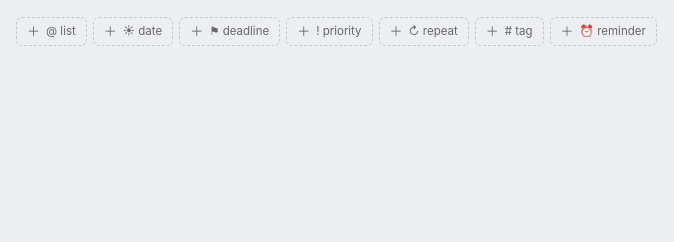
the field sheets in the detail › closes on Escape
This screenshot has width=674, height=242.
Click the button "＋ ! priority".
click(329, 32)  # box [286, 17, 373, 46]
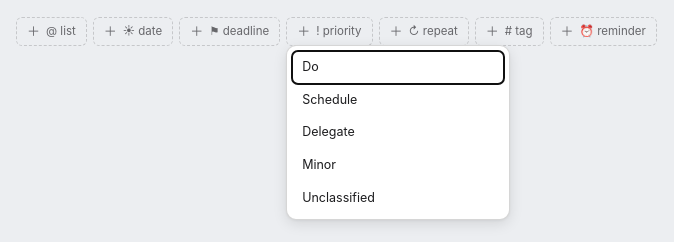
Now the button "Do" is shown, box [292, 51, 504, 84]
Press Escape
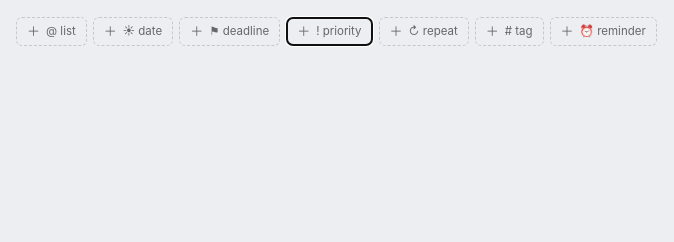
Now the button "Do" is gone
